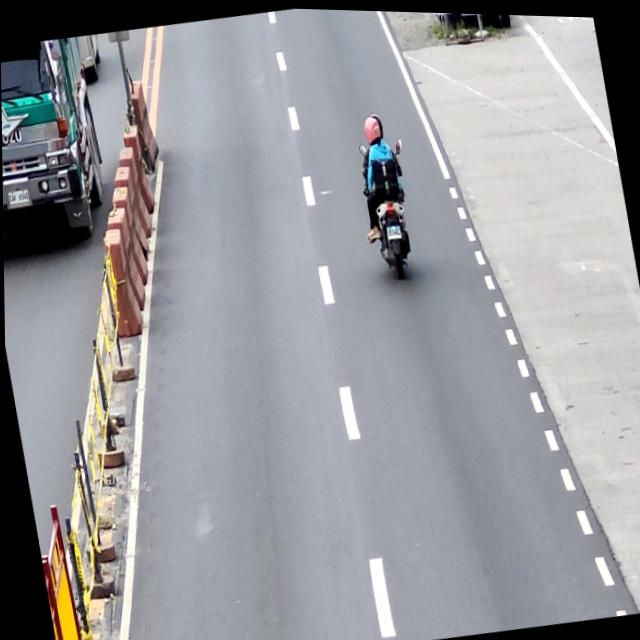License-Plate: (385, 221, 403, 239)
Motorcycle: (357, 134, 423, 276)
